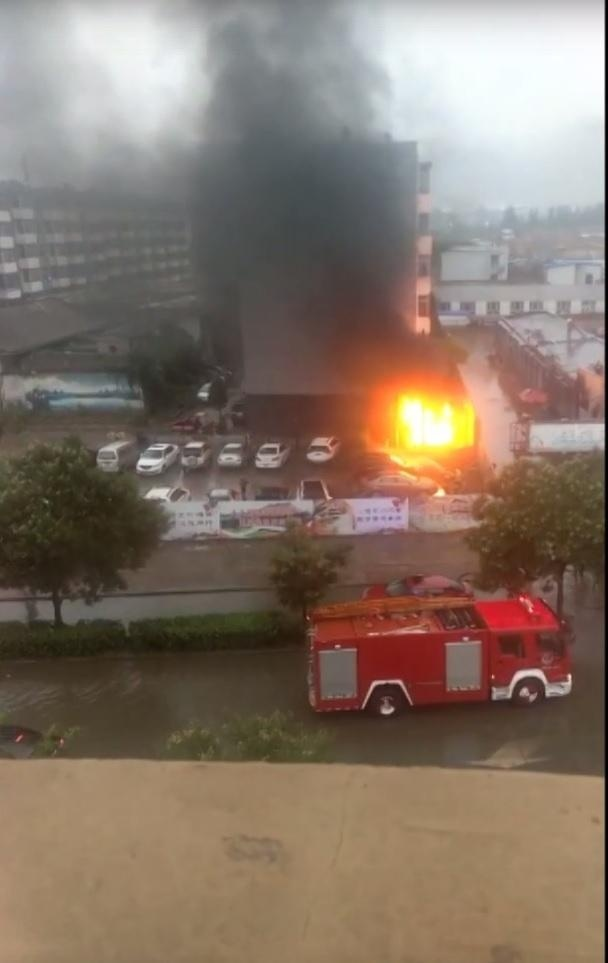fire: (384, 382, 470, 452)
